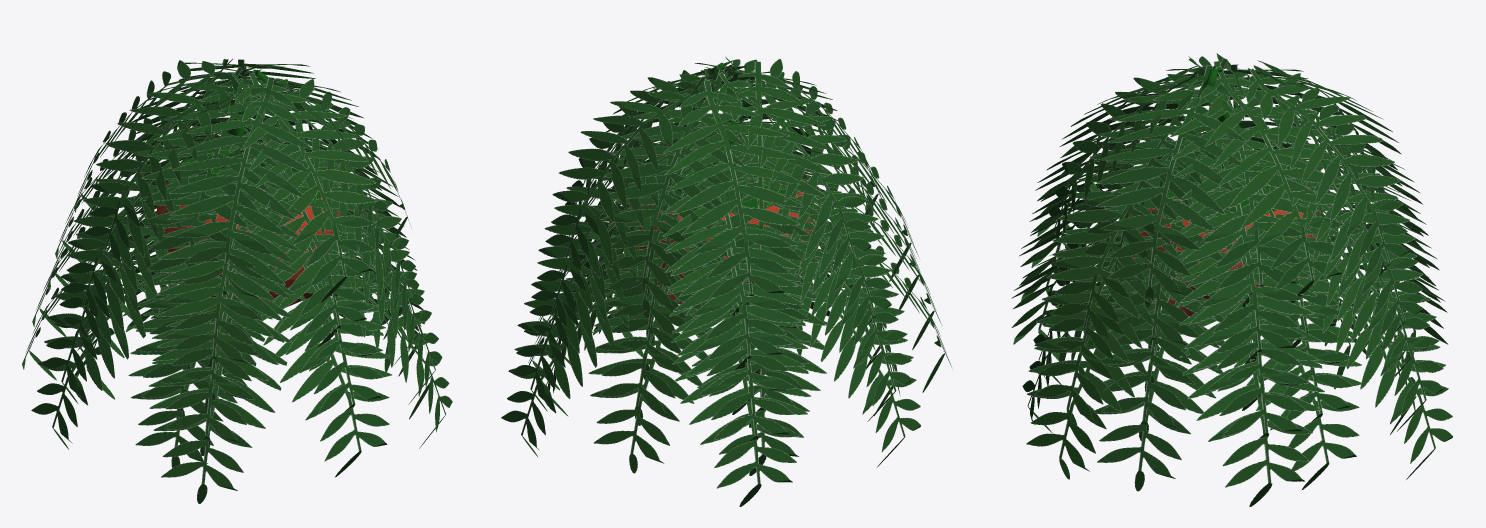
Rendered from planter4.fbx.
3 renders of one model, left to right at view 1: azimuth 30°, elevation 25°; view 2: azimuth 150°, elevation 25°; view 3: azimuth 270°, elevation 25°, orthographic. The views are drawn at different scales.
Visible parts, largest first — view 1: Plane.029; view 2: Plane.029; view 3: Plane.029.
Part boxes in pixels (x1=…): Plane.029: x1=22, y1=58, x2=452, y2=503; Plane.029: x1=501, y1=56, x2=951, y2=506; Plane.029: x1=1011, y1=53, x2=1452, y2=506.
Bounding box in the file's own units: 0.5404 × 0.5041 × 0.5782.
3 materials, 3 textured.
